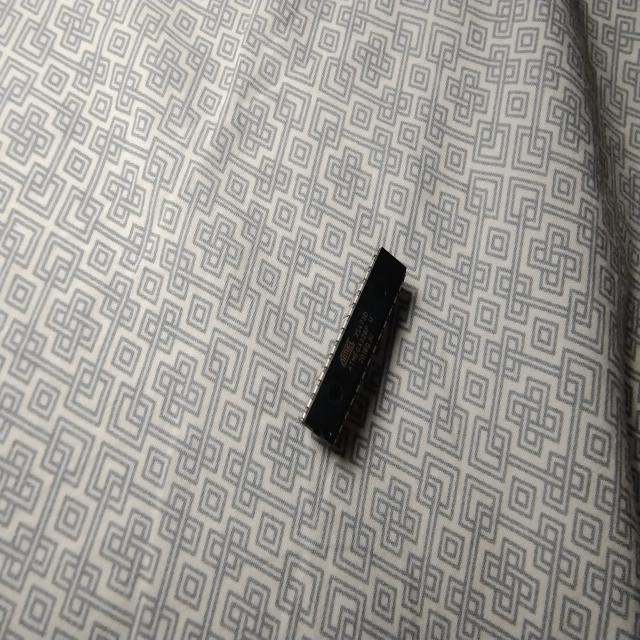atmega: (299, 244, 411, 459)
